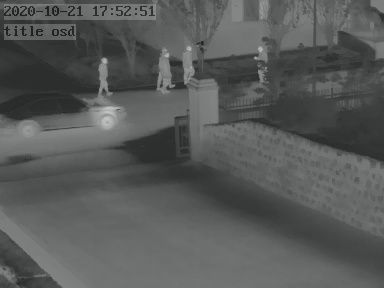person: (156, 46, 171, 90), (96, 56, 112, 95), (253, 46, 268, 81), (182, 46, 194, 83)
vehicle: (1, 89, 127, 136)
